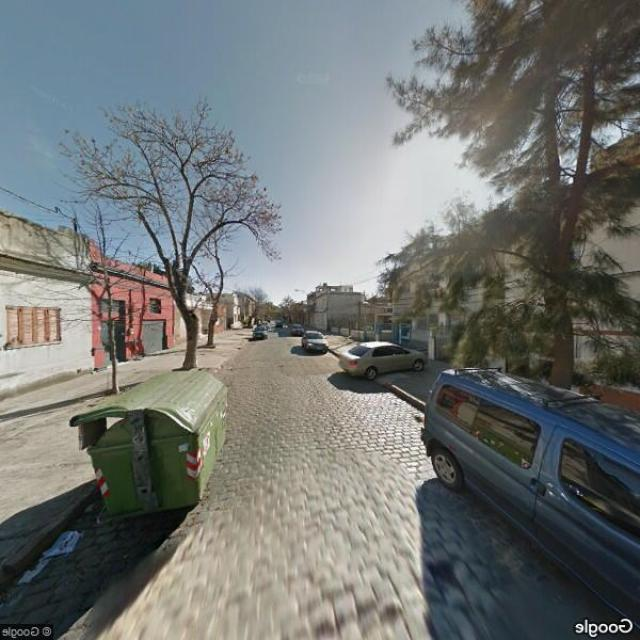garbage container: (61, 364, 232, 534)
